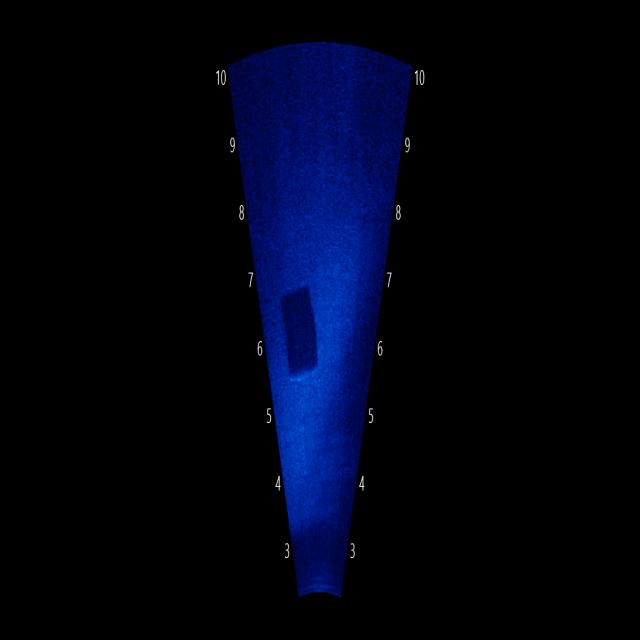square: (274, 268, 325, 394)
